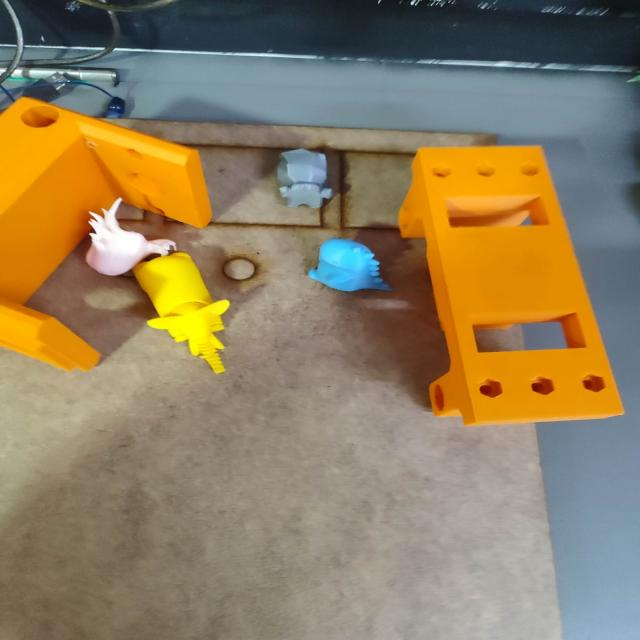DINO: (302, 226, 396, 300)
